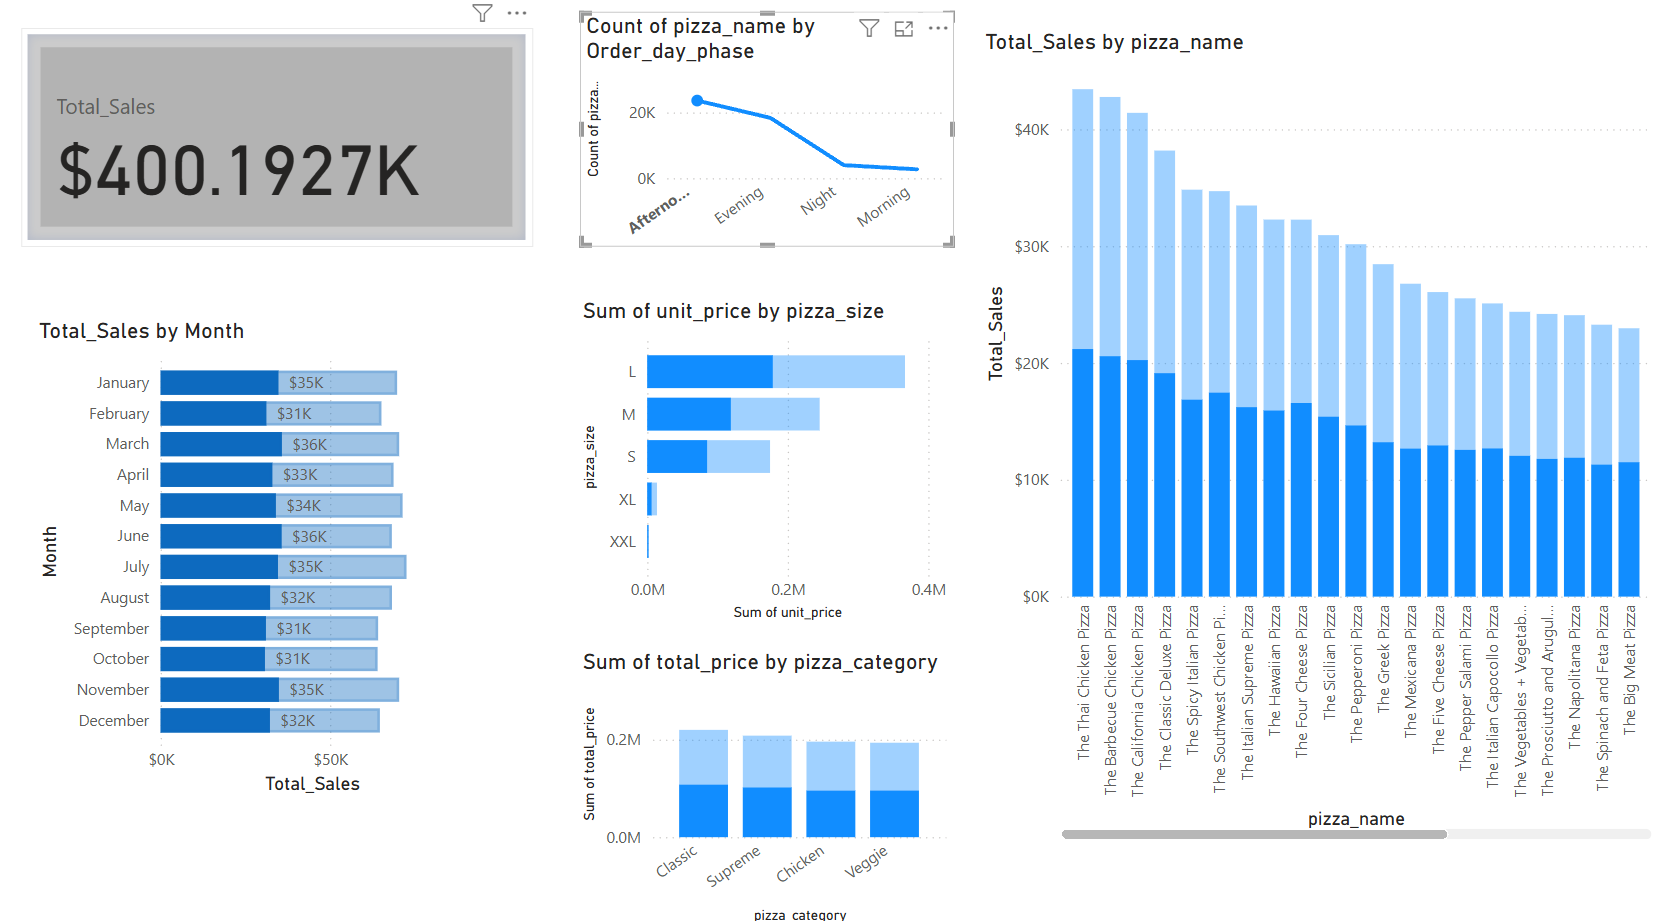

Layout of this report page (visuals, bound fields, positions):
{"tool":"powerbi","page":{"name":"Page 1","canvas":[1280,720],"ordinal":0},"visuals":[{"type":"cardVisual","fields":{"Data":["pizza_sales.Total_Spend"]},"box":[20.1,27.2,393.7,168.2],"z":0},{"type":"barChart","fields":{"Y":["pizza_sales.Total_Sales"],"Category":["pizza_sales.order_date.Variation.Date Hierarchy.Year","pizza_sales.order_date.Variation.Date Hierarchy.Quarter","pizza_sales.order_date.Variation.Date Hierarchy.Month","pizza_sales.order_date.Variation.Date Hierarchy.Day"]},"box":[29.2,248.7,351.4,372.6],"z":1000},{"type":"clusteredBarChart","fields":{"Category":["pizza_sales.pizza_size"],"Y":["Sum(pizza_sales.unit_price)"]},"box":[447.1,233.6,290,253.7],"z":2000},{"type":"lineChart","fields":{"Category":["pizza_sales.Order_day_phase"],"Y":["CountNonNull(pizza_sales.pizza_name)"]},"box":[450.1,14.1,287,181.2],"z":3000},{"type":"clusteredColumnChart","fields":{"Category":["pizza_sales.pizza_category"],"Y":["Sum(pizza_sales.total_price)"]},"box":[447.1,503.5,290,216.5],"z":4000},{"type":"columnChart","fields":{"Category":["pizza_sales.pizza_name","pizza_sales.order_date.Variation.Date Hierarchy.Year","pizza_sales.order_date.Variation.Date Hierarchy.Quarter","pizza_sales.order_date.Variation.Date Hierarchy.Month","pizza_sales.order_date.Variation.Date Hierarchy.Day"],"Y":["pizza_sales.Total_Sales"]},"box":[757.2,27.2,522.6,629.3],"z":5000}]}

Visuals, with their boxes in screenshot pixels (x1, y1, x2, y2), scaled from the page's 1280x720 canvas onto the 1655x921 screenshot:
cardVisual - pizza_sales.Total_Spend: {"x1": 26, "y1": 35, "x2": 535, "y2": 250}
barChart - pizza_sales.Total_Sales x pizza_sales.order_date.Variation.Date Hierarchy.Year: {"x1": 38, "y1": 318, "x2": 492, "y2": 795}
clusteredBarChart - pizza_sales.pizza_size x Sum(pizza_sales.unit_price): {"x1": 578, "y1": 299, "x2": 953, "y2": 623}
lineChart - pizza_sales.Order_day_phase x CountNonNull(pizza_sales.pizza_name): {"x1": 582, "y1": 18, "x2": 953, "y2": 250}
clusteredColumnChart - pizza_sales.pizza_category x Sum(pizza_sales.total_price): {"x1": 578, "y1": 644, "x2": 953, "y2": 920}
columnChart - pizza_sales.pizza_name x pizza_sales.order_date.Variation.Date Hierarchy.Year: {"x1": 979, "y1": 35, "x2": 1654, "y2": 840}
